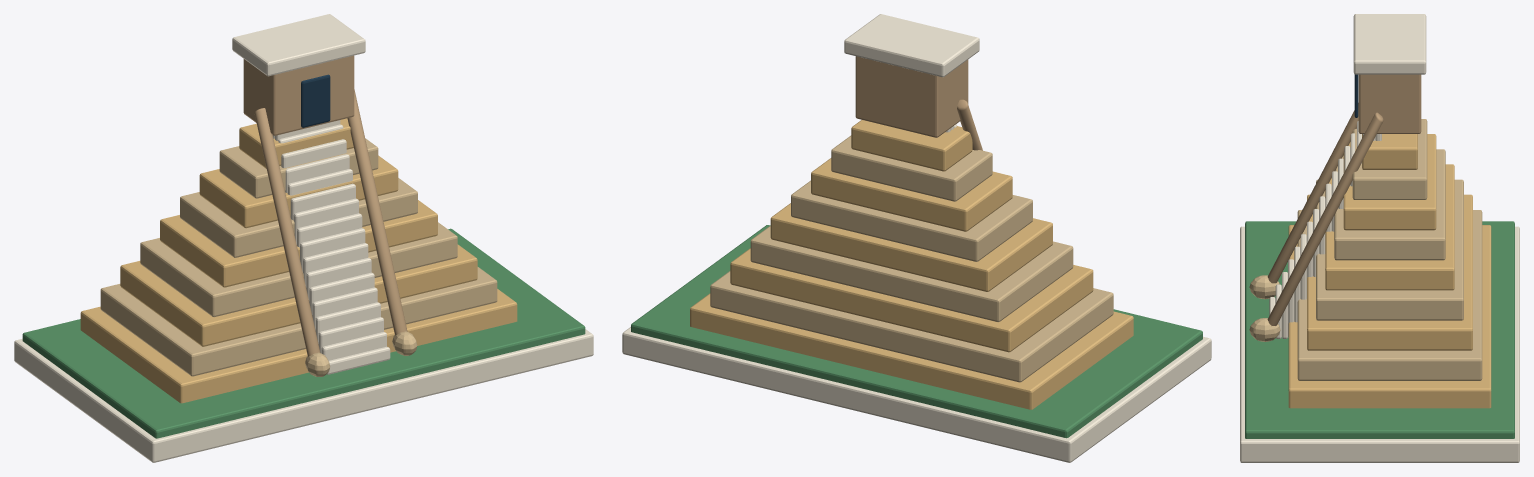
The model's file is chichen-itza.glb.
The picture shows the model from 3 angles, left to right: view 1: azimuth 30°, elevation 25°; view 2: azimuth 150°, elevation 25°; view 3: azimuth 270°, elevation 25°; orthographic projection.
Visible parts, largest first — view 1: Chichén Itzá; view 2: Chichén Itzá; view 3: Chichén Itzá.
Part boxes in pixels (x1,y1,x2,y2): Chichén Itzá: [14, 14, 593, 462]; Chichén Itzá: [622, 14, 1211, 462]; Chichén Itzá: [1240, 14, 1519, 462].
Size of the model in its own units: 1.47 by 1.01 by 0.8064.
